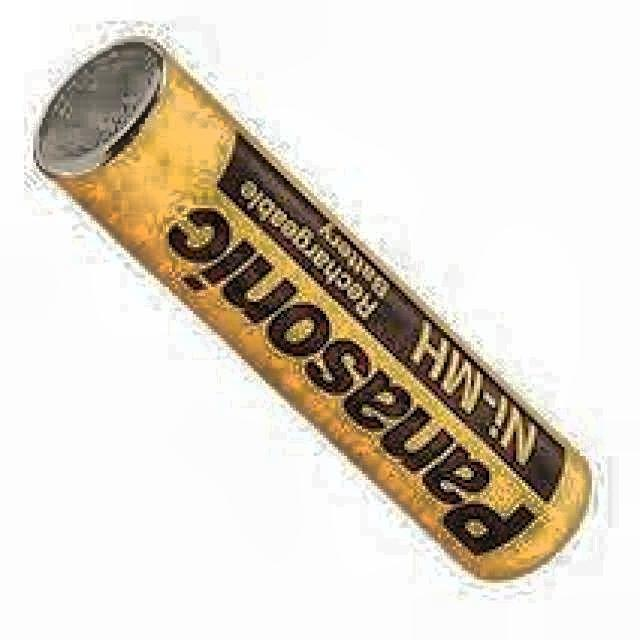battery: (37, 39, 591, 583)
